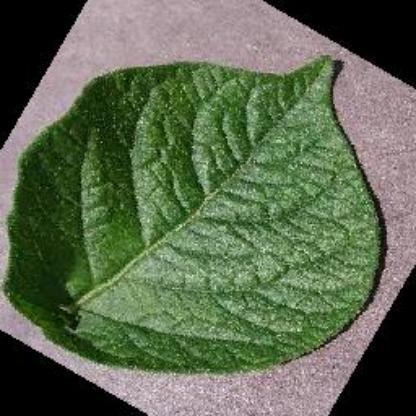Healthy-plant: (3, 33, 401, 396)
